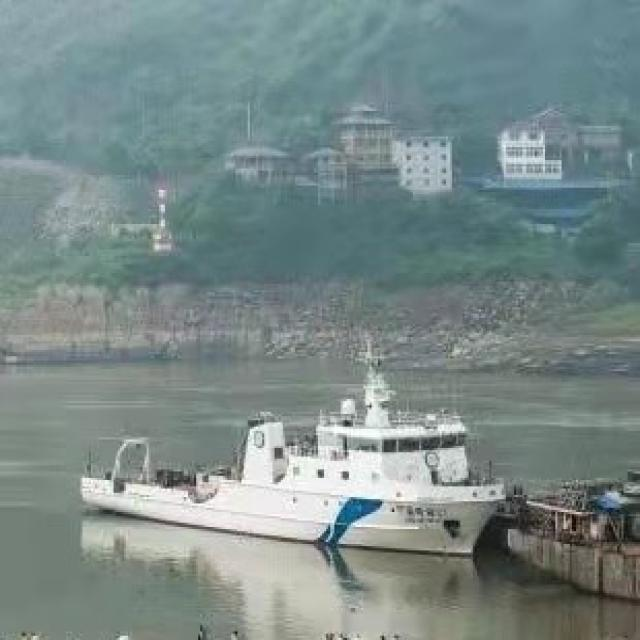houseboat: (49, 364, 500, 573)
